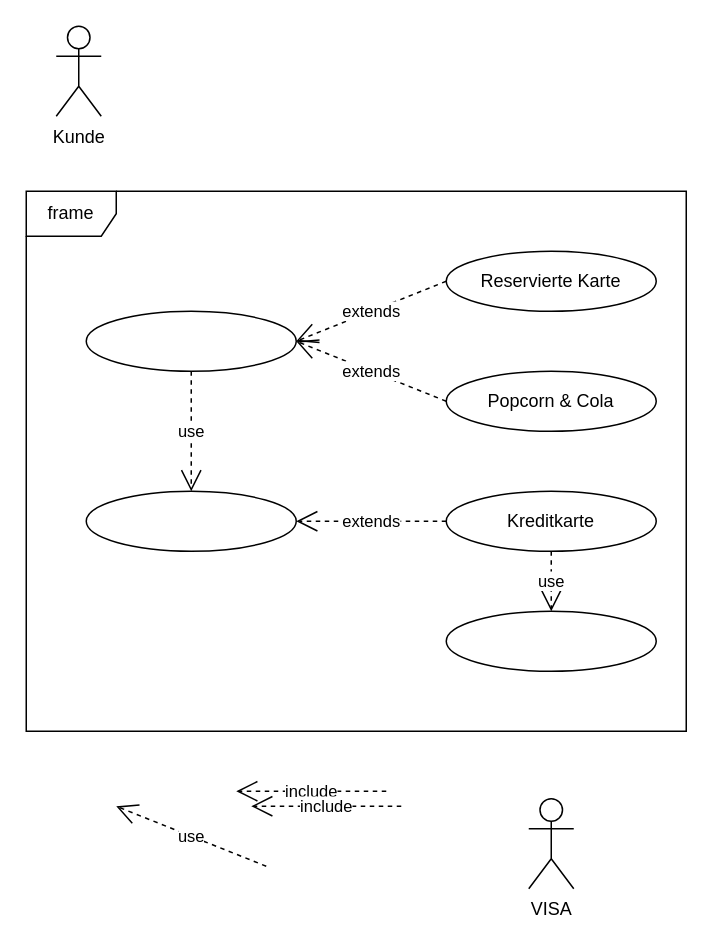
The diagram is 713 pixels wide and 947 high, and some of its shapes have lost their labels. The centre of each missing label's shape, as x and y in pixels:
"Bezahlen" goes at point (190, 520).
"Karte kaufen" goes at point (190, 340).
"Karte prüfen" goes at point (550, 640).
